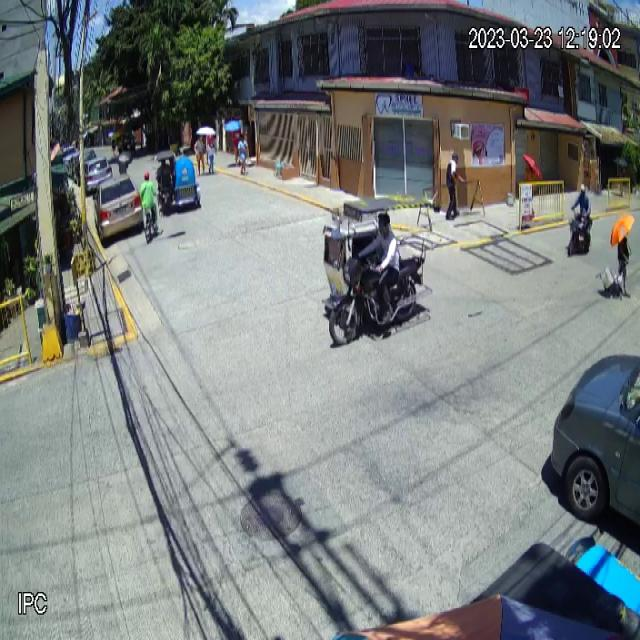Tricycle: (321, 196, 428, 346), (157, 149, 202, 216)
